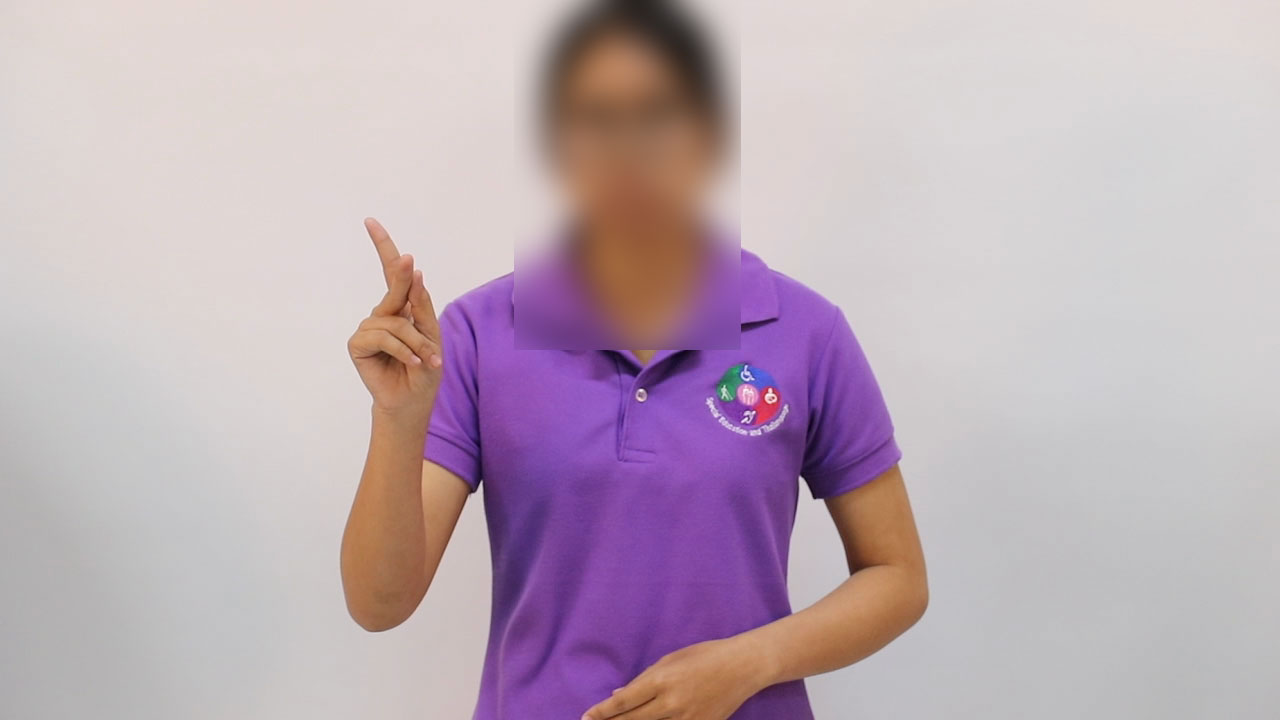ko: (317, 215, 465, 412)
